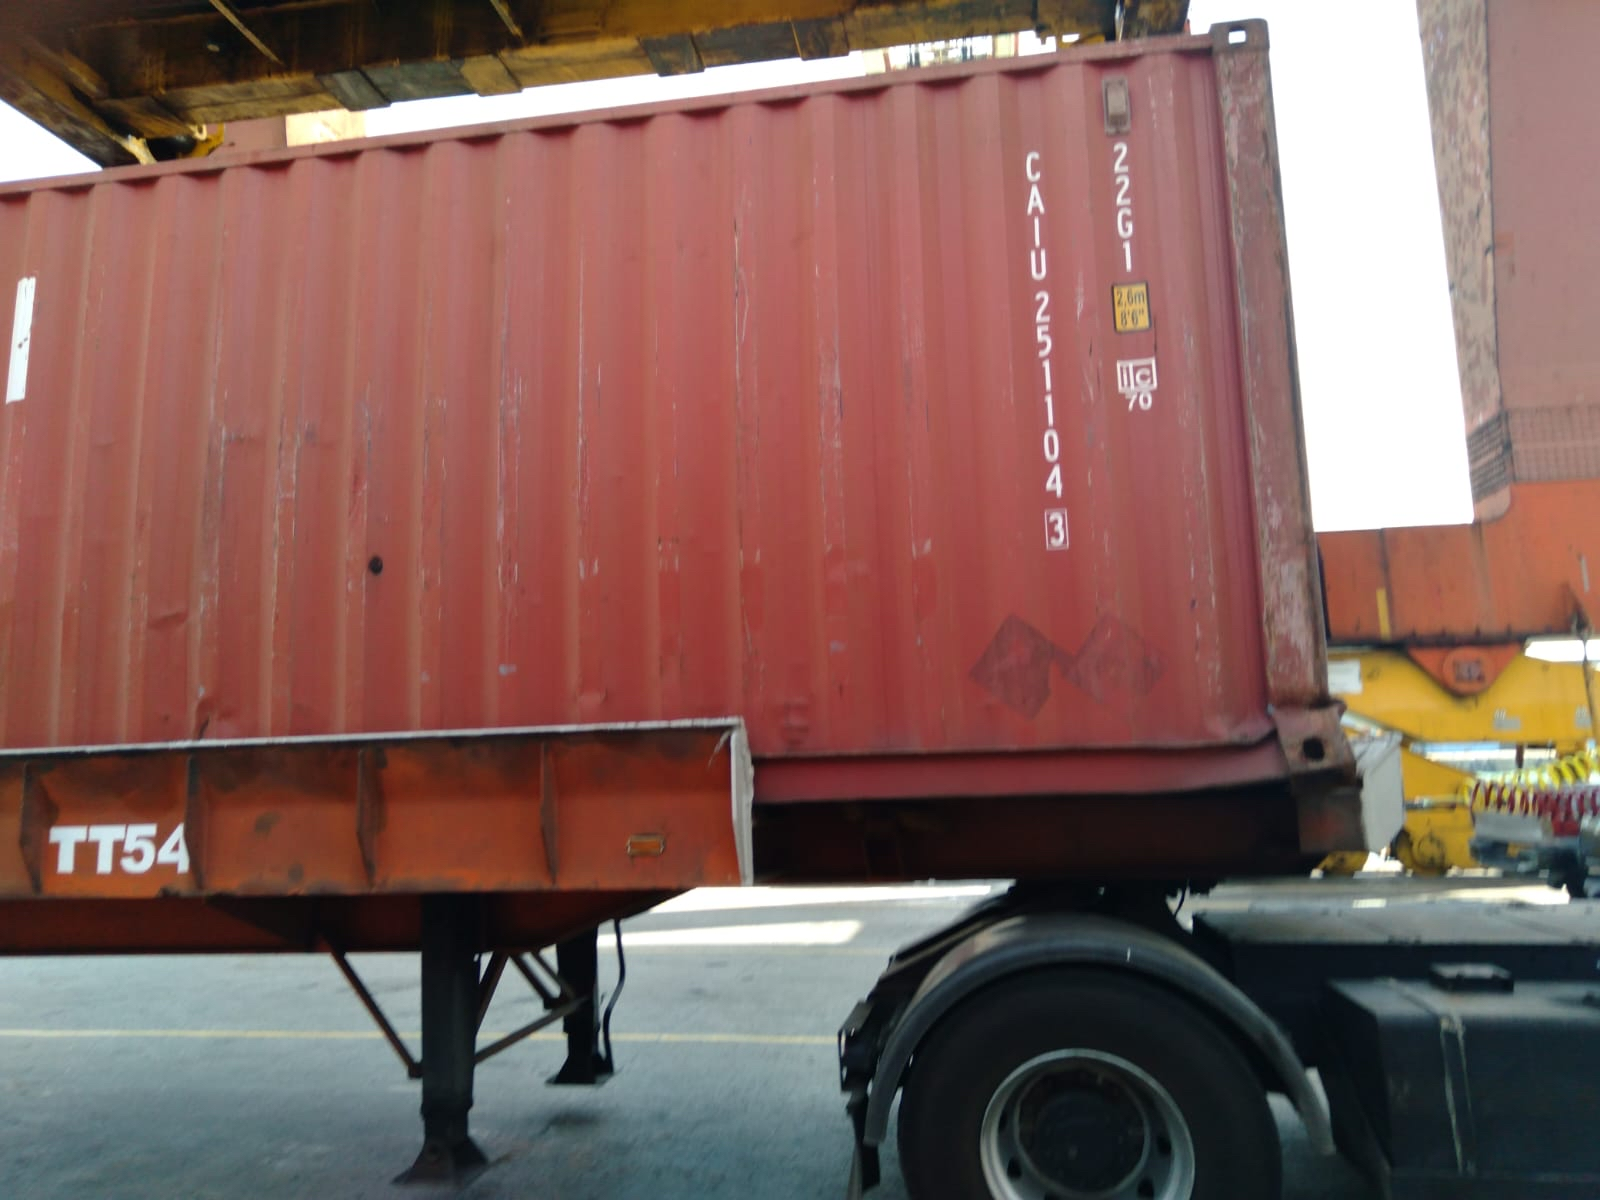right_side: (1, 40, 1335, 800)
